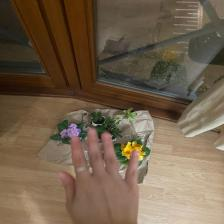five: (51, 128, 144, 224)
